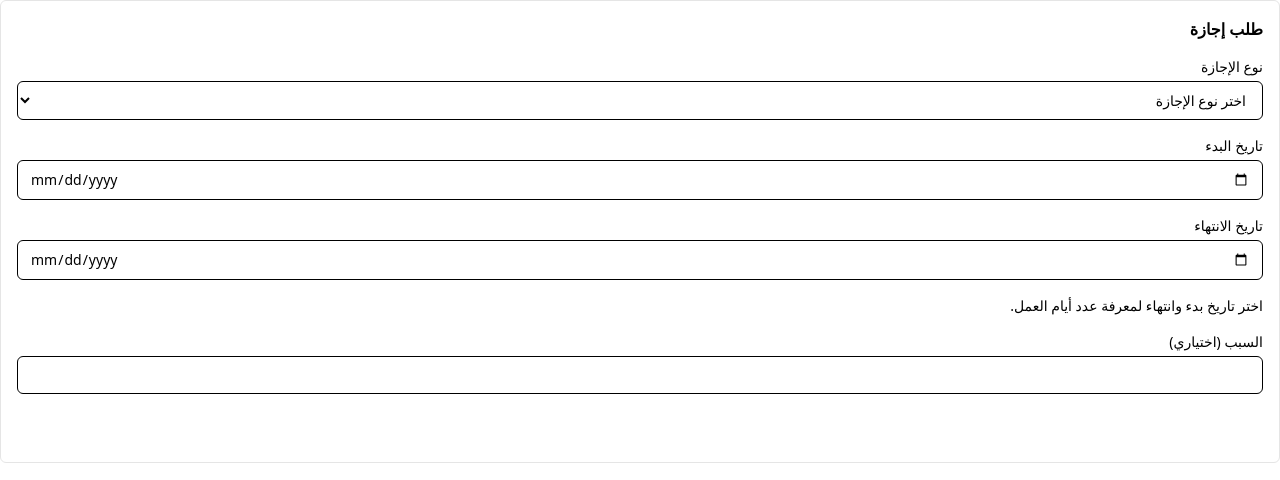
LeaveSubmitForm rendered in ar › renders the real translated title with dir=rtl, and a western-numeral working-days preview after picking dates
The width and height of the screenshot is (1280, 480).
In the date field labelled "تاريخ البدء": (640, 180) [17, 160, 1263, 200], type "2026-08-03"
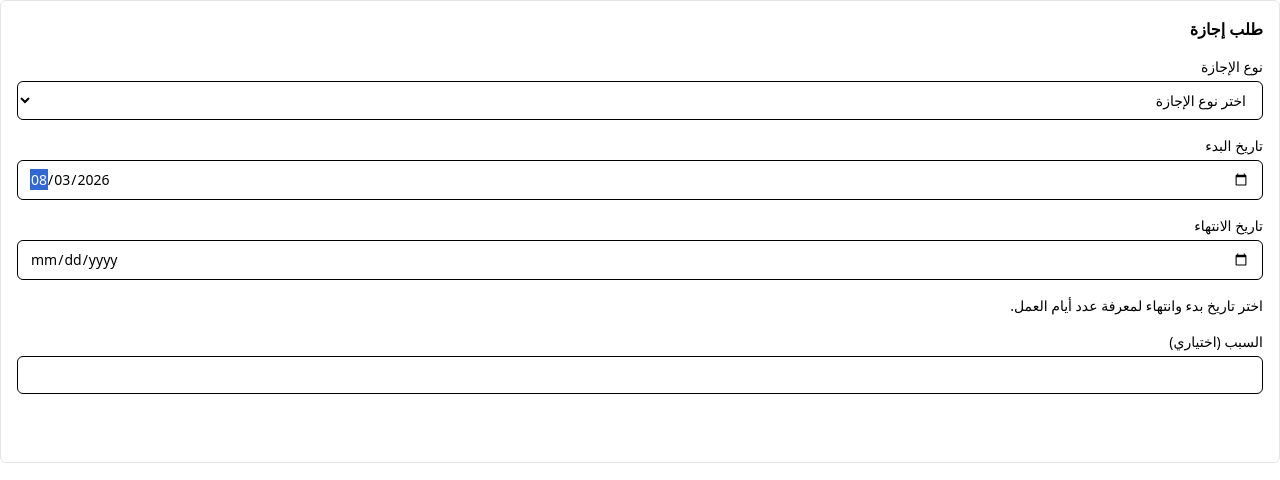
In the date field labelled "تاريخ الانتهاء": (640, 260) [17, 240, 1263, 280], type "2026-08-05"
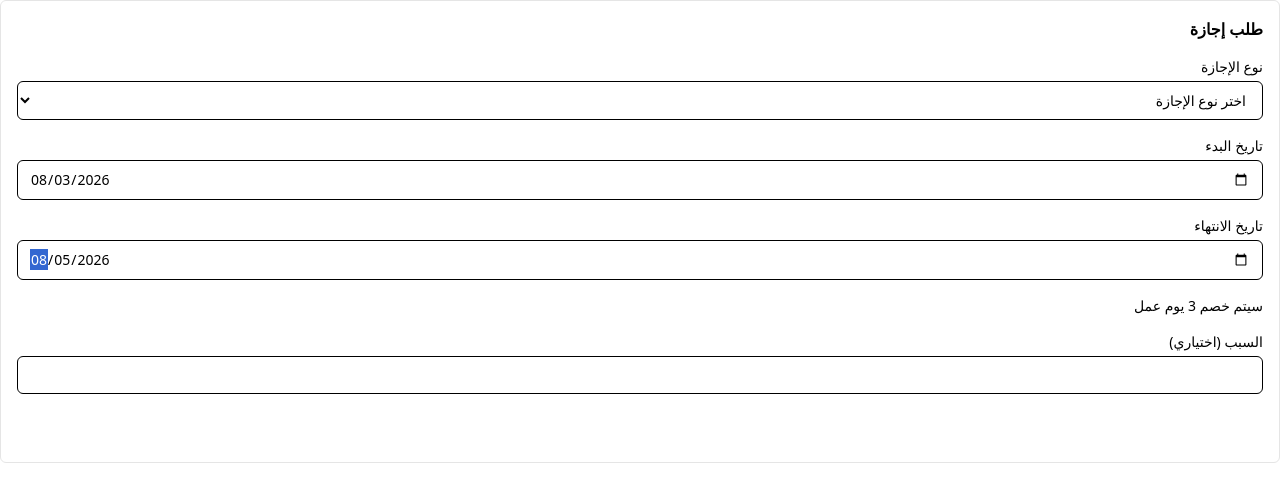
Expected: the text "سيتم خصم 3 يوم عمل" is shown, [1134, 296, 1263, 315]
